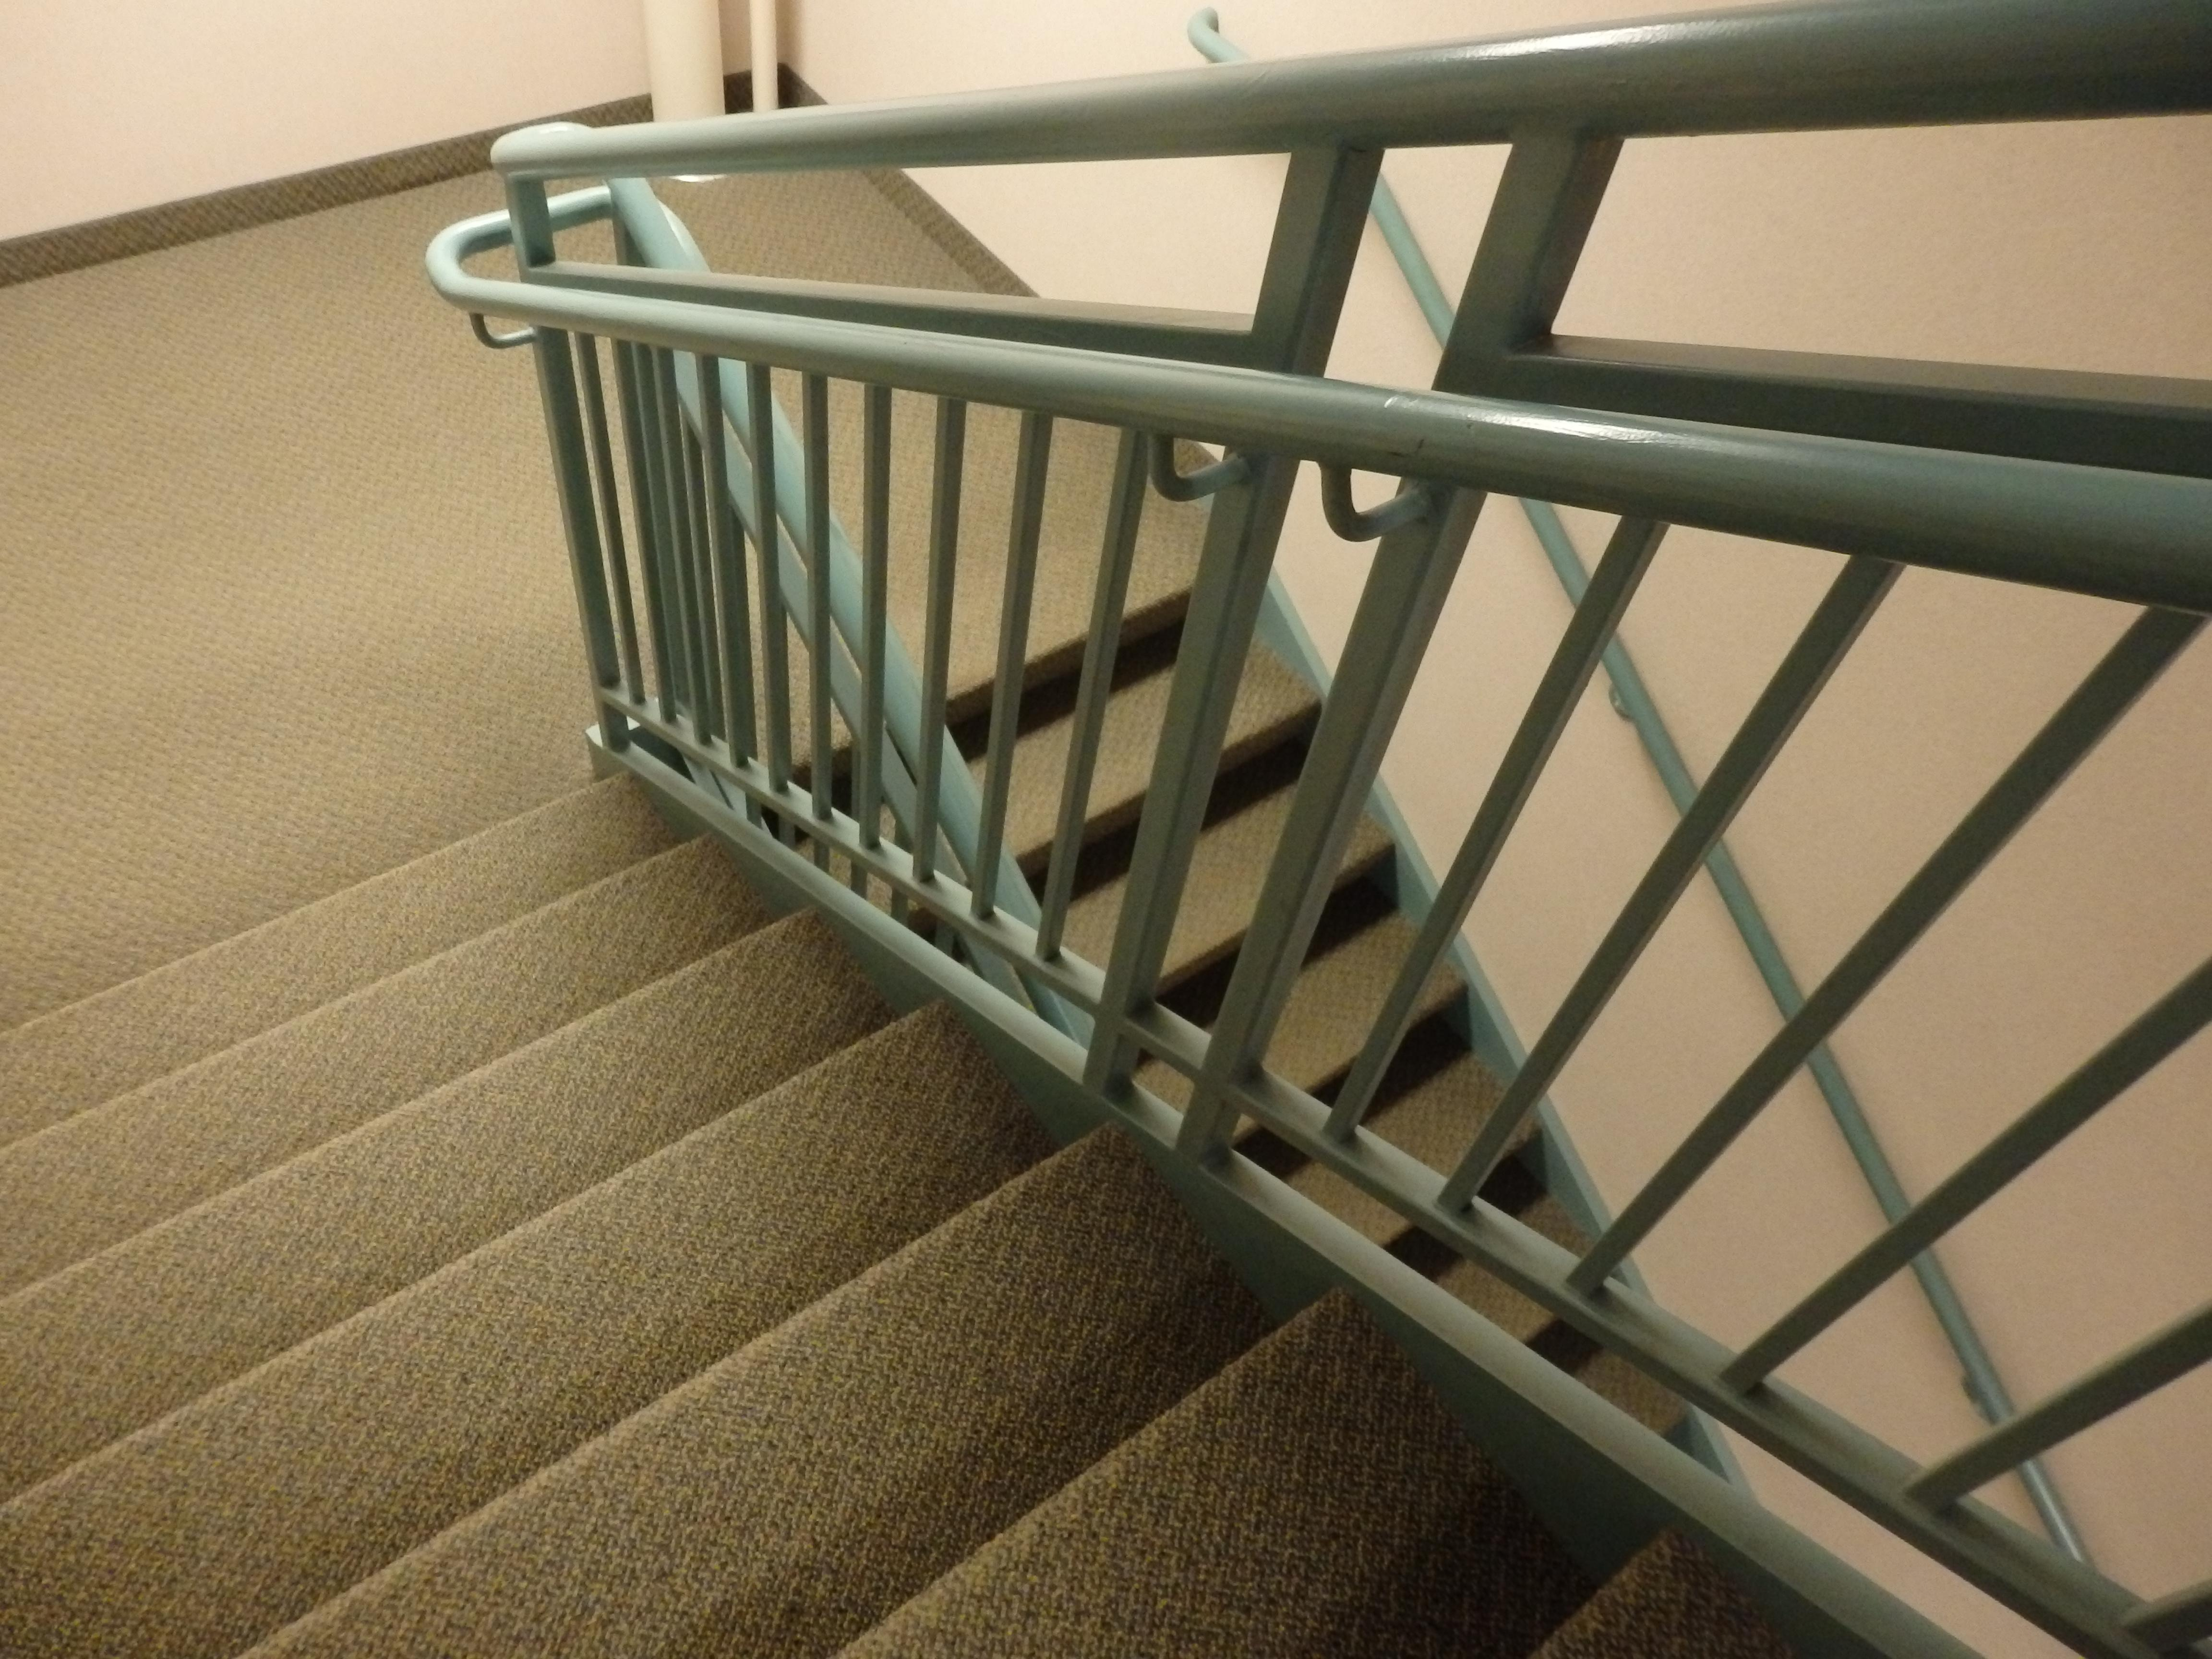stairs_down: (61, 864, 1672, 1619)
